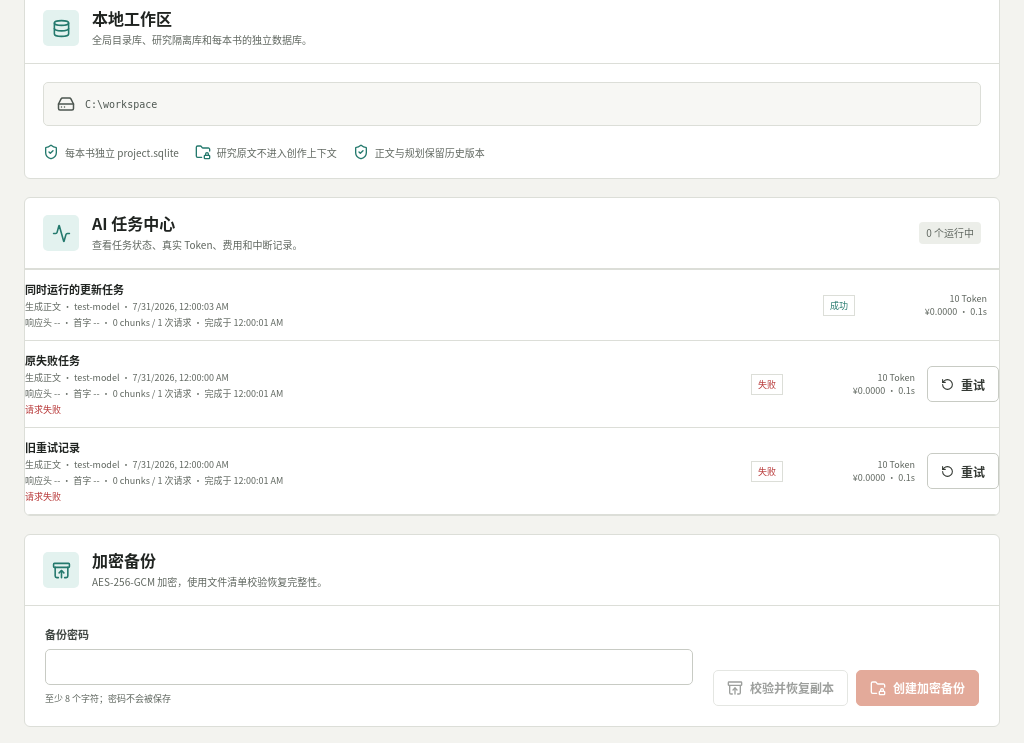
Test: settings AI task center › uses the returned retry record without reloading the job list
(page scrolled)
Expected: the text "原失败任务" is shown, [25,352,80,368]
Click the 1st button "重试". click: {"x": 963, "y": 384}
box: [927,366,999,402]
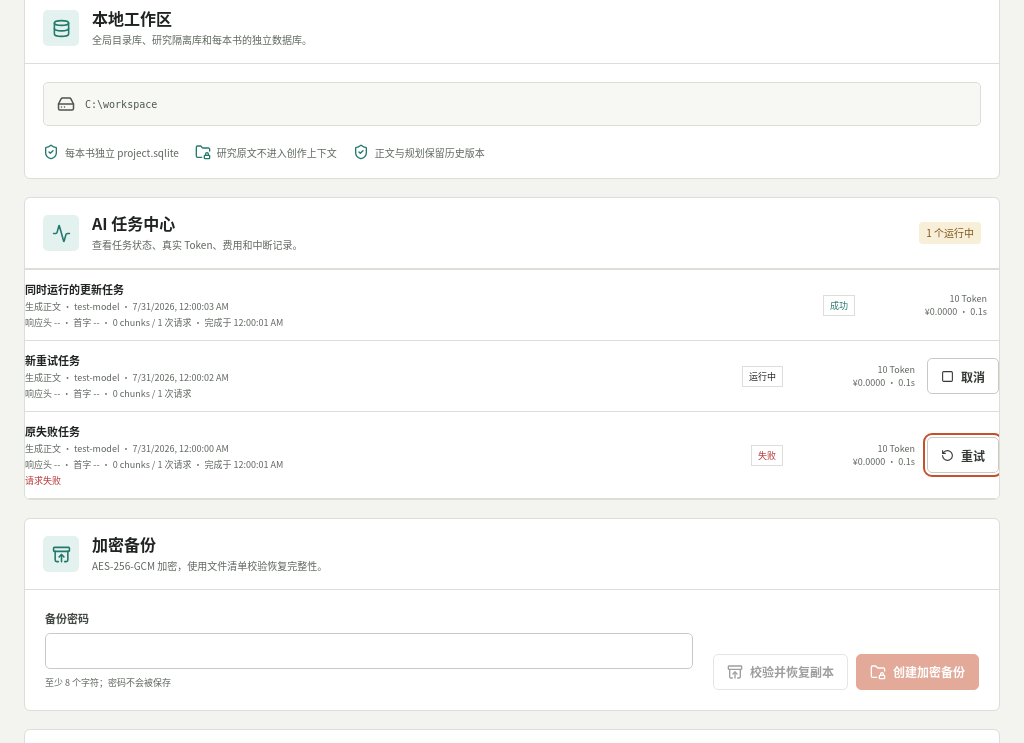
Expected: the text "原失败任务" is shown, [25,423,80,439]
Expected: the text "新重试任务" is shown, [25,352,80,368]
Expected: the text "旧重试记录" is gone
